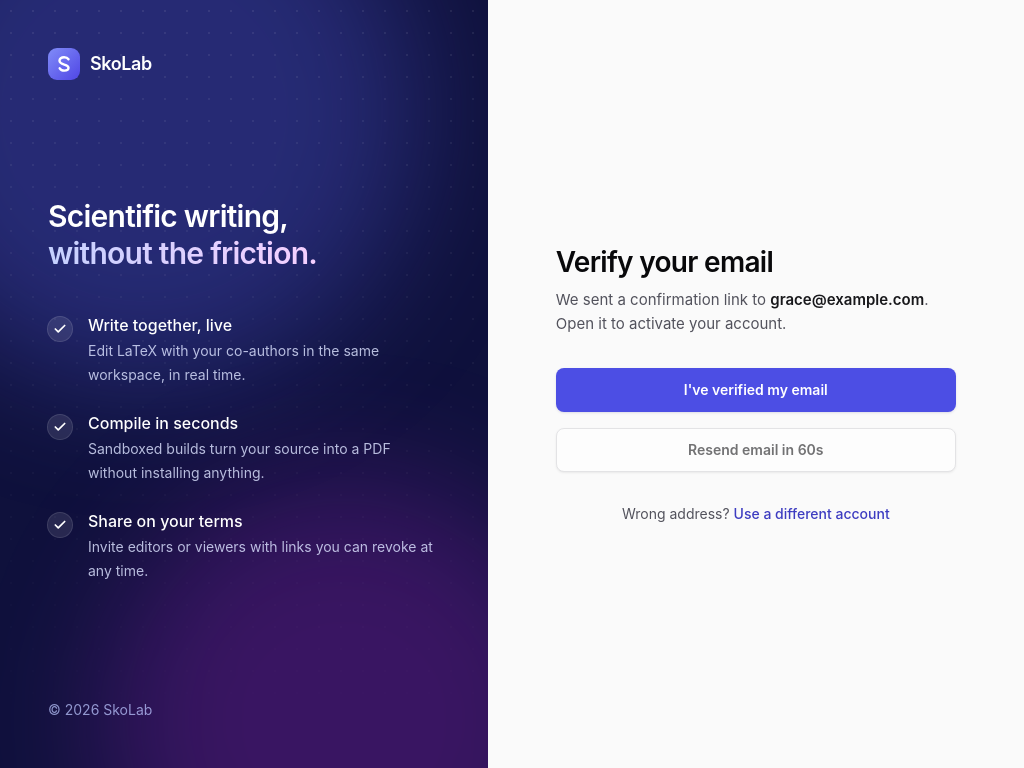
verify email › reports a failed check and lets the user switch accounts
Step 1. Click the button "I've verified my email" → (756, 390), box [556, 368, 956, 412]
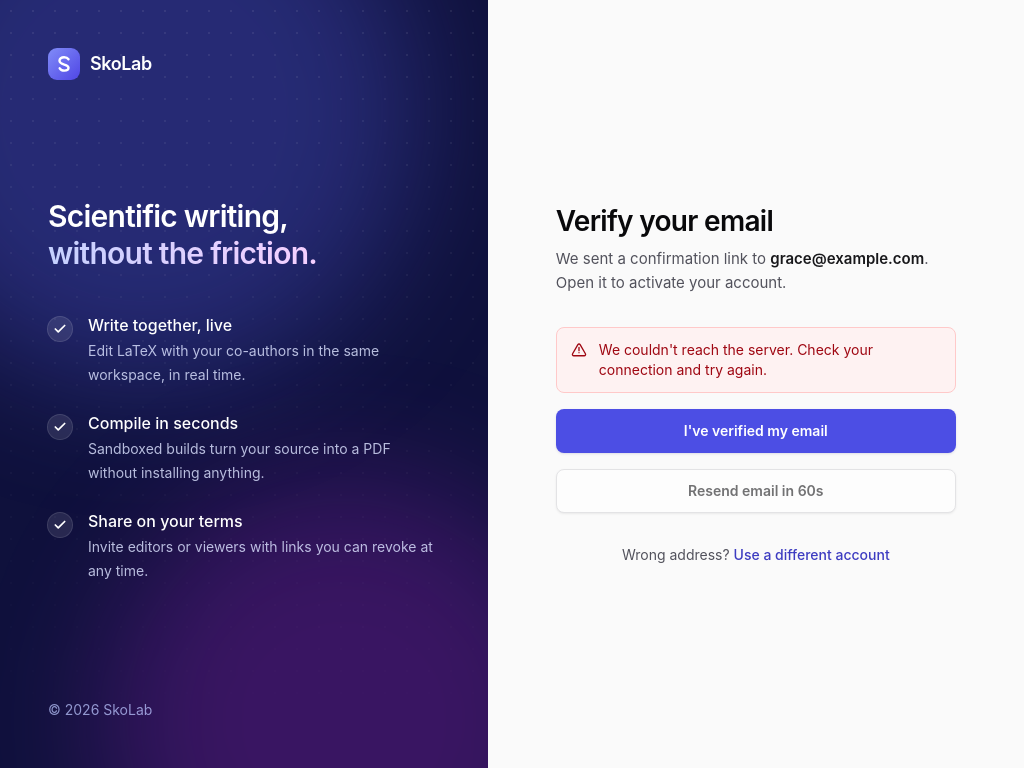
Expected: the message shows "couldn't reach the server", [599, 340, 873, 378]
Step 2. Click the button "Use a different account" → (812, 554), box [734, 544, 890, 564]
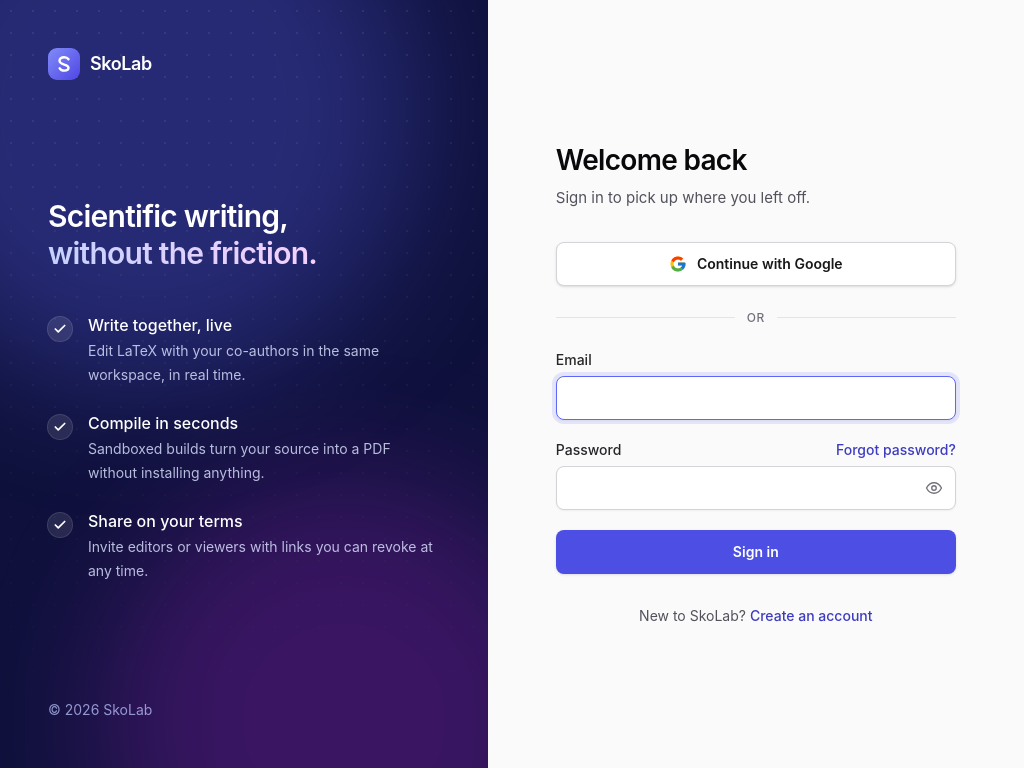
Expected: the heading "Welcome back" is shown, [556, 142, 747, 176]
